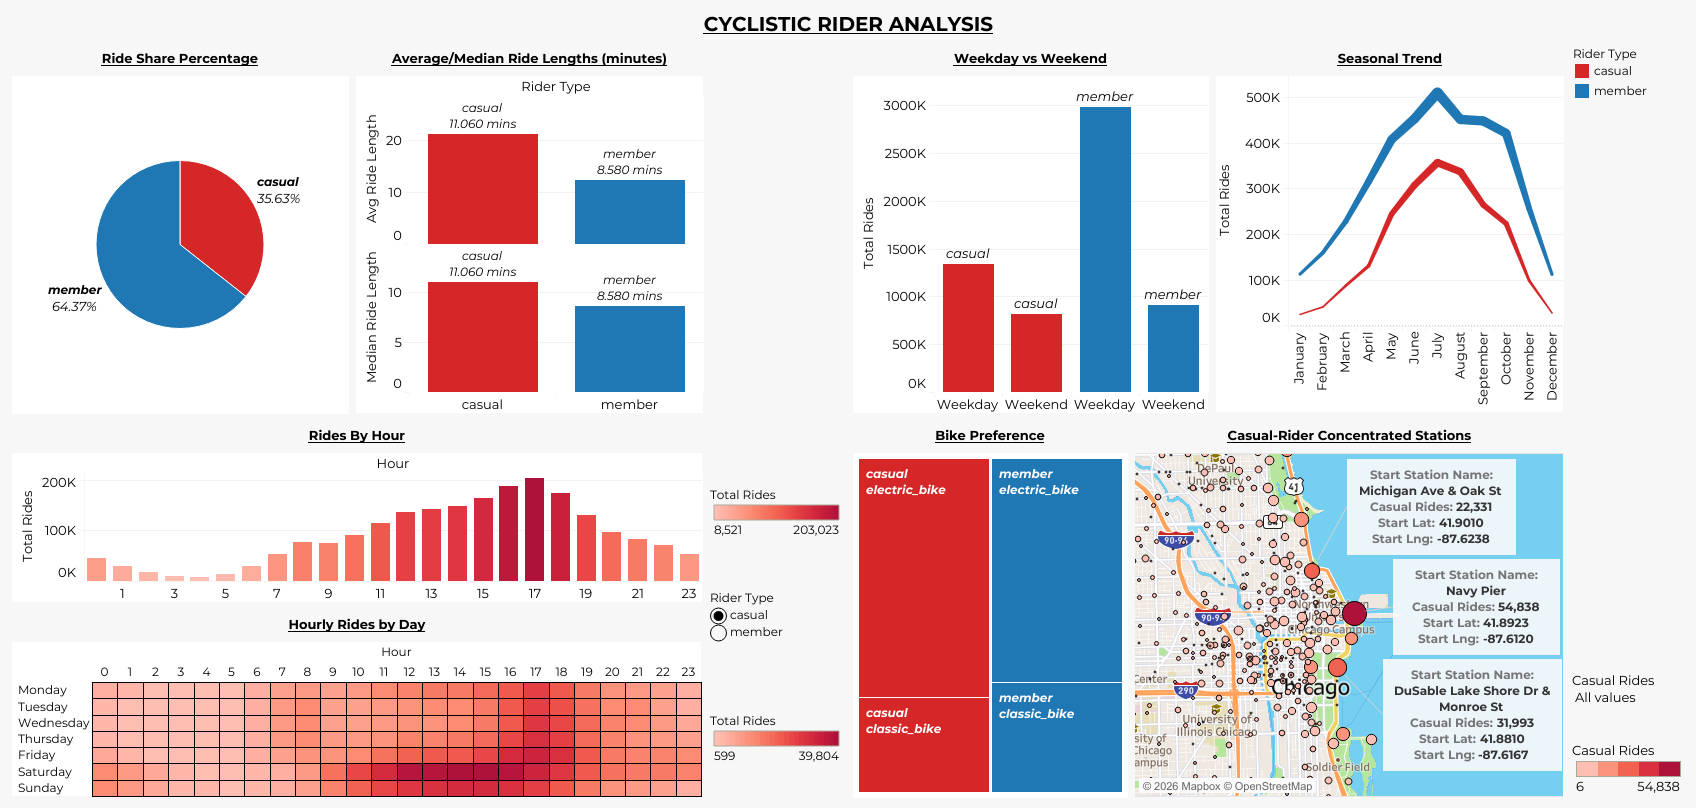

The dashboard page shown, as its layout file describes it:
{"tool":"tableau","page":{"name":"Dashboard 1","canvas":[1000,1000],"units":"permille","ordinal":0},"visuals":[{"type":"text","box":[4.7,9.9,990.6,39.2]},{"type":"worksheet","title":"Ride Share Percentage","mark":"Pie","box":[4.7,49.1,203,465.9]},{"type":"worksheet","title":"Average/Median Ride Lengths","mark":"Automatic","rows":["avg_ride_length","median_ride_length"],"cols":["rider_type"],"box":[207.7,49.1,208.7,465.9]},{"type":"blank","box":[416.3,49.1,84,465.9]},{"type":"worksheet","title":"Weekday vs Weekend","mark":"Automatic","rows":["total_rides"],"cols":["rider_type","day_type"],"box":[500.3,49.1,213.9,465.9]},{"type":"worksheet","title":"Seasonal Trend","mark":"Line","rows":["total_rides"],"cols":["month"],"box":[714.2,49.1,209.9,465.9]},{"type":"legend","title":"Seasonal Trend","param":"[federated.17879wi1kni6nr115y1gx16lg22i].[none:rider_type:nk]","box":[924.2,49.1,71.1,465.9]},{"type":"worksheet","title":"Rides By Hour","mark":"Bar","rows":["total_rides"],"cols":["hour"],"box":[4.7,515,411.6,233.7]},{"type":"blank","box":[416.3,515,83.7,76.8]},{"type":"worksheet","title":"Bike Preference","mark":"Automatic","box":[500,515,166.5,475.1]},{"type":"worksheet","title":"Casual-Rider Concentrated Stations","mark":"Circle","rows":["start_lat"],"cols":["start_lng"],"box":[666.5,515,257.6,475.1]},{"type":"blank","box":[924.1,515,71.2,309.1]},{"type":"legend","title":"Rides By Hour","param":"[federated.1kjub821o2anqe1h8123z1yxfob3].[sum:total_rides:qk]","box":[416.3,591.7,83.7,131.1]},{"type":"filter","title":"Rides By Hour","param":"[federated.1kjub821o2anqe1h8123z1yxfob3].[none:rider_type:nk]","box":[416.3,722.8,83.7,108.8]},{"type":"worksheet","title":"Hourly Rides by Day","mark":"Square","rows":["day_of_week"],"cols":["hour"],"box":[4.7,748.7,411.6,241.4]},{"type":"filter","title":"Casual-Rider Concentrated Stations","param":"[federated.19uyvho033py911grxfk30nsgojv].[sum:casual_rides:qk]","box":[924.1,824.1,71.2,82.8]},{"type":"blank","box":[416.3,831.6,83.7,39.4]},{"type":"legend","title":"Hourly Rides by Day","param":"[federated.0nan1l90aavoxx16ju13i1p57lra].[sum:total_rides:qk]","box":[416.3,871,83.7,119.1]},{"type":"legend","title":"Casual-Rider Concentrated Stations","param":"[federated.19uyvho033py911grxfk30nsgojv].[sum:casual_rides:qk]","box":[924.1,906.9,71.2,83.2]}]}

Visuals, with their boxes on the dashboard's canvas, which has no fixed pixel size, in thousandths of its width and height (x1, y1, x2, y2). These are canvas units, not pixel positions in the 1696x808 screenshot, which may show the page scaled, cropped or inside an application window:
text: (left=5, top=10, right=995, bottom=49)
"Ride Share Percentage" worksheet (Pie marks): (left=5, top=49, right=208, bottom=515)
"Average/Median Ride Lengths" worksheet: (left=208, top=49, right=416, bottom=515)
blank: (left=416, top=49, right=500, bottom=515)
"Weekday vs Weekend" worksheet: (left=500, top=49, right=714, bottom=515)
"Seasonal Trend" worksheet (Line marks): (left=714, top=49, right=924, bottom=515)
"Seasonal Trend" legend: (left=924, top=49, right=995, bottom=515)
"Rides By Hour" worksheet (Bar marks): (left=5, top=515, right=416, bottom=749)
blank: (left=416, top=515, right=500, bottom=592)
"Bike Preference" worksheet: (left=500, top=515, right=666, bottom=990)
"Casual-Rider Concentrated Stations" worksheet (Circle marks): (left=666, top=515, right=924, bottom=990)
blank: (left=924, top=515, right=995, bottom=824)
"Rides By Hour" legend: (left=416, top=592, right=500, bottom=723)
"Rides By Hour" filter: (left=416, top=723, right=500, bottom=832)
"Hourly Rides by Day" worksheet (Square marks): (left=5, top=749, right=416, bottom=990)
"Casual-Rider Concentrated Stations" filter: (left=924, top=824, right=995, bottom=907)
blank: (left=416, top=832, right=500, bottom=871)
"Hourly Rides by Day" legend: (left=416, top=871, right=500, bottom=990)
"Casual-Rider Concentrated Stations" legend: (left=924, top=907, right=995, bottom=990)
